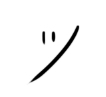tsu: (25, 21, 80, 89)
